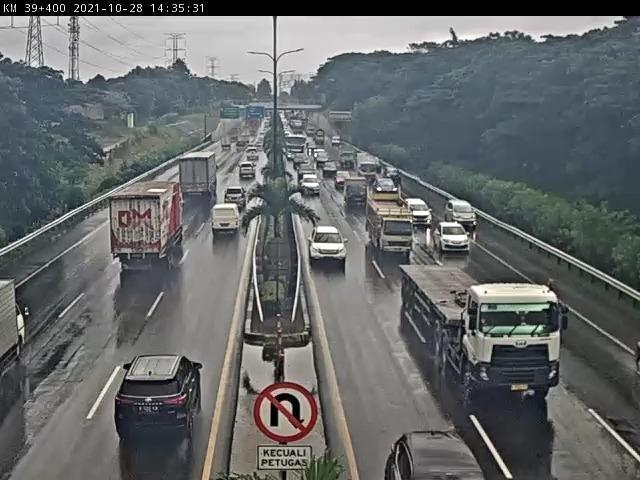car: (118, 357, 204, 442), (384, 429, 487, 480), (312, 228, 347, 263), (434, 225, 469, 255), (211, 211, 240, 243), (446, 202, 477, 229), (409, 200, 433, 227), (346, 179, 370, 203), (220, 191, 246, 211), (301, 174, 321, 193), (382, 164, 401, 183), (374, 178, 396, 194), (236, 166, 255, 184), (336, 169, 351, 189), (293, 155, 309, 168), (298, 165, 314, 178), (317, 152, 330, 166), (325, 162, 338, 176), (246, 151, 258, 164)
truck: (402, 265, 565, 406), (113, 183, 186, 273), (367, 197, 415, 257), (1, 277, 27, 379), (177, 155, 217, 200), (285, 132, 307, 159), (357, 154, 378, 178), (340, 150, 355, 165), (221, 137, 234, 151)
